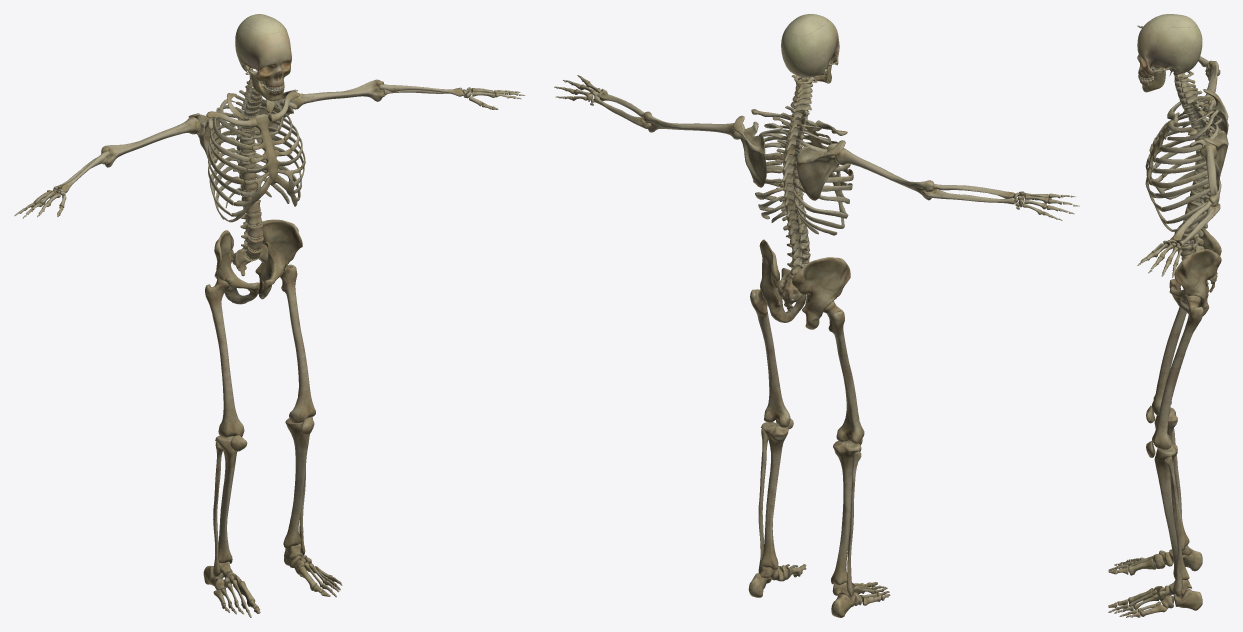
The picture shows the model from 3 angles, left to right: view 1: azimuth 30°, elevation 25°; view 2: azimuth 150°, elevation 25°; view 3: azimuth 270°, elevation 25°; orthographic projection. The views are drawn at different scales.
Visible parts, largest first — view 1: Skeletal, Skeletal_Cranium_Calavera_0; view 2: Skeletal, Skeletal_Cranium_Calavera_0; view 3: Skeletal, Skeletal_Cranium_Calavera_0.
Boxes of the visible parts, x1,y1,x2,y2 form: Skeletal: [14, 69, 525, 617]; Skeletal_Cranium_Calavera_0: [235, 14, 291, 101]; Skeletal: [554, 75, 1079, 617]; Skeletal_Cranium_Calavera_0: [781, 14, 839, 83]; Skeletal: [1108, 25, 1228, 617]; Skeletal_Cranium_Calavera_0: [1137, 14, 1202, 92].
Bounding box in the file's own units: 171 × 183 × 34.75.
2 materials, 2 textured.
